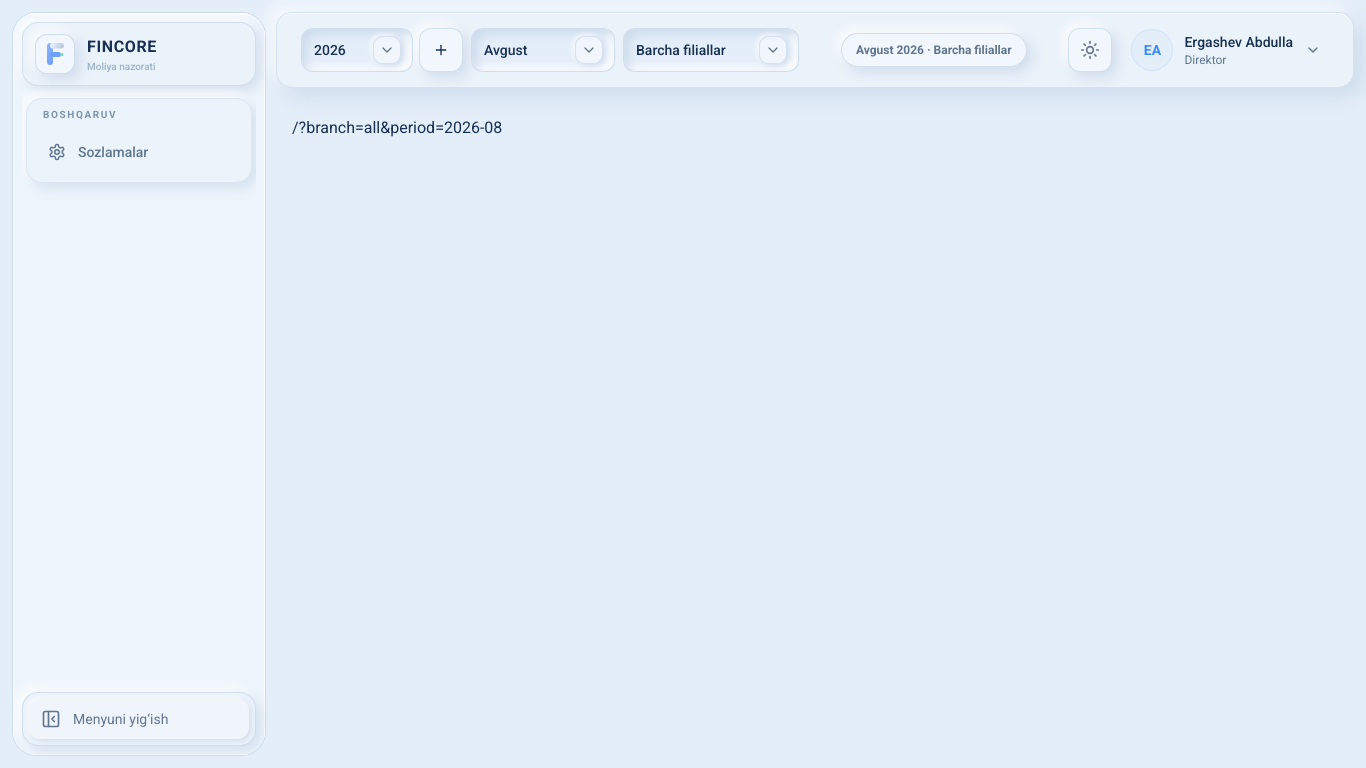
global accounting year selector › creates a full year, selects its matching month and exposes it immediately
Click the button named "Yangi yil qo‘shish": (441, 50) [419, 28, 463, 72]
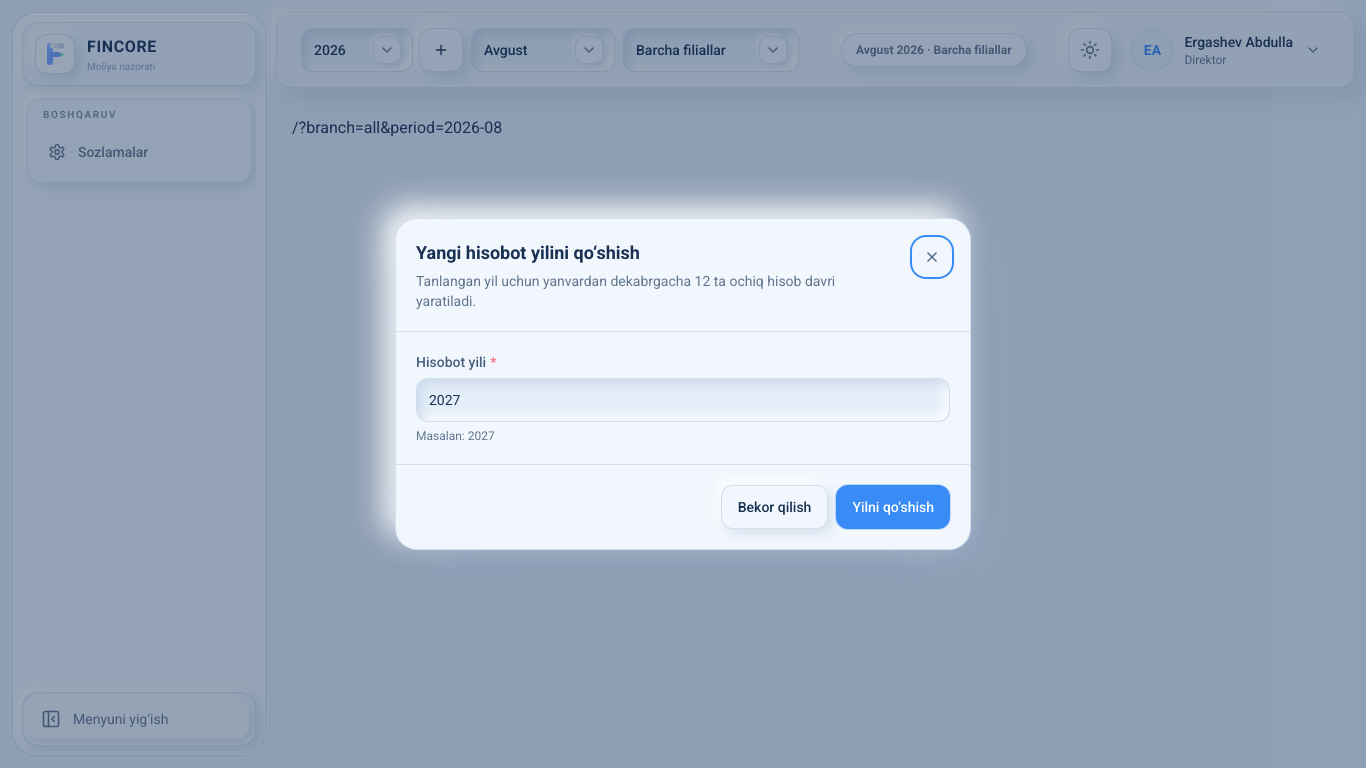
Expected: the dialog "Yangi hisobot yilini qo‘shish" is shown, [395, 218, 971, 550]
Click the button "Yilni qo‘shish": (893, 507) [836, 485, 950, 529]
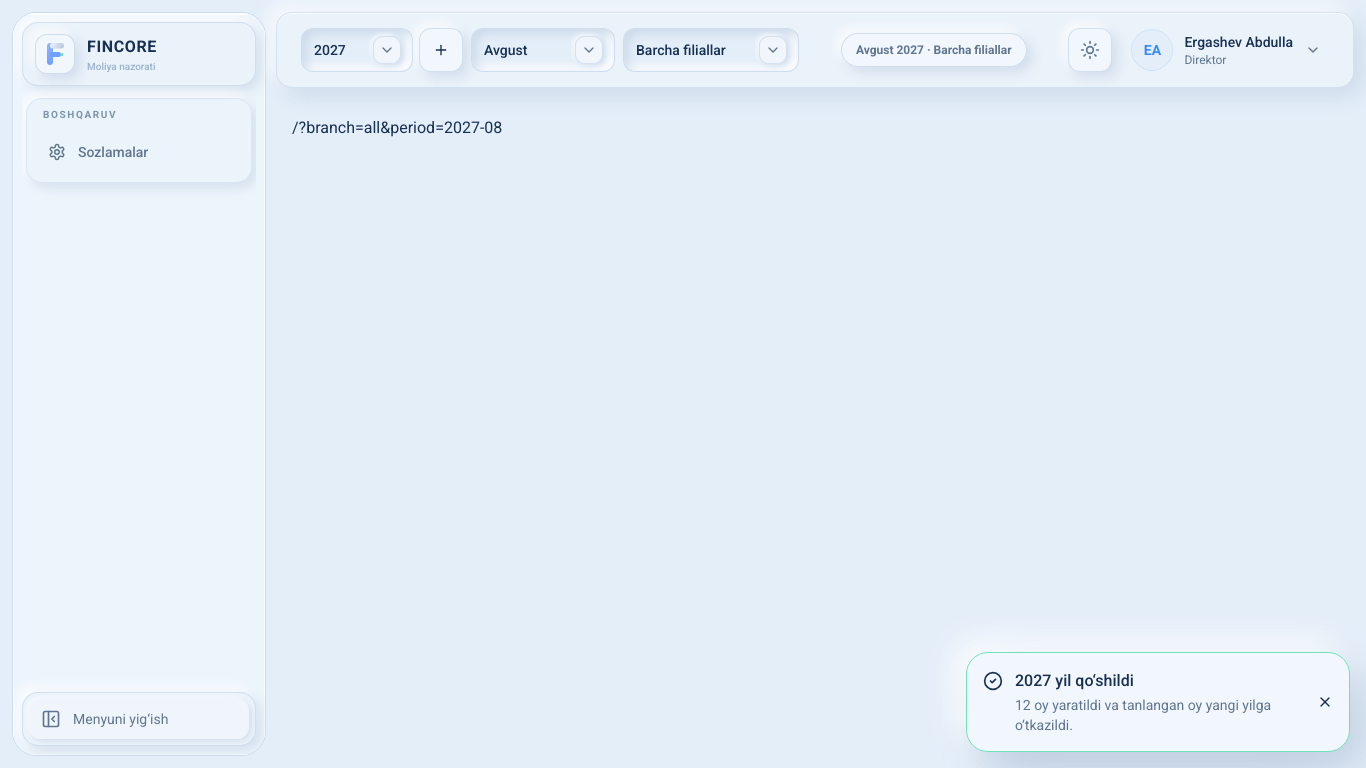
Expected: the text named "Joriy URL" shows "period=2027-08", [292, 118, 502, 137]
